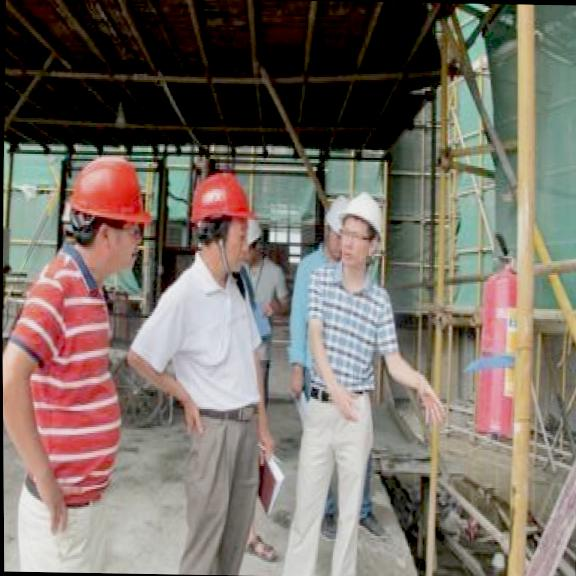no_safety_vest: (17, 241, 128, 504), (160, 260, 272, 430), (303, 260, 389, 418)
